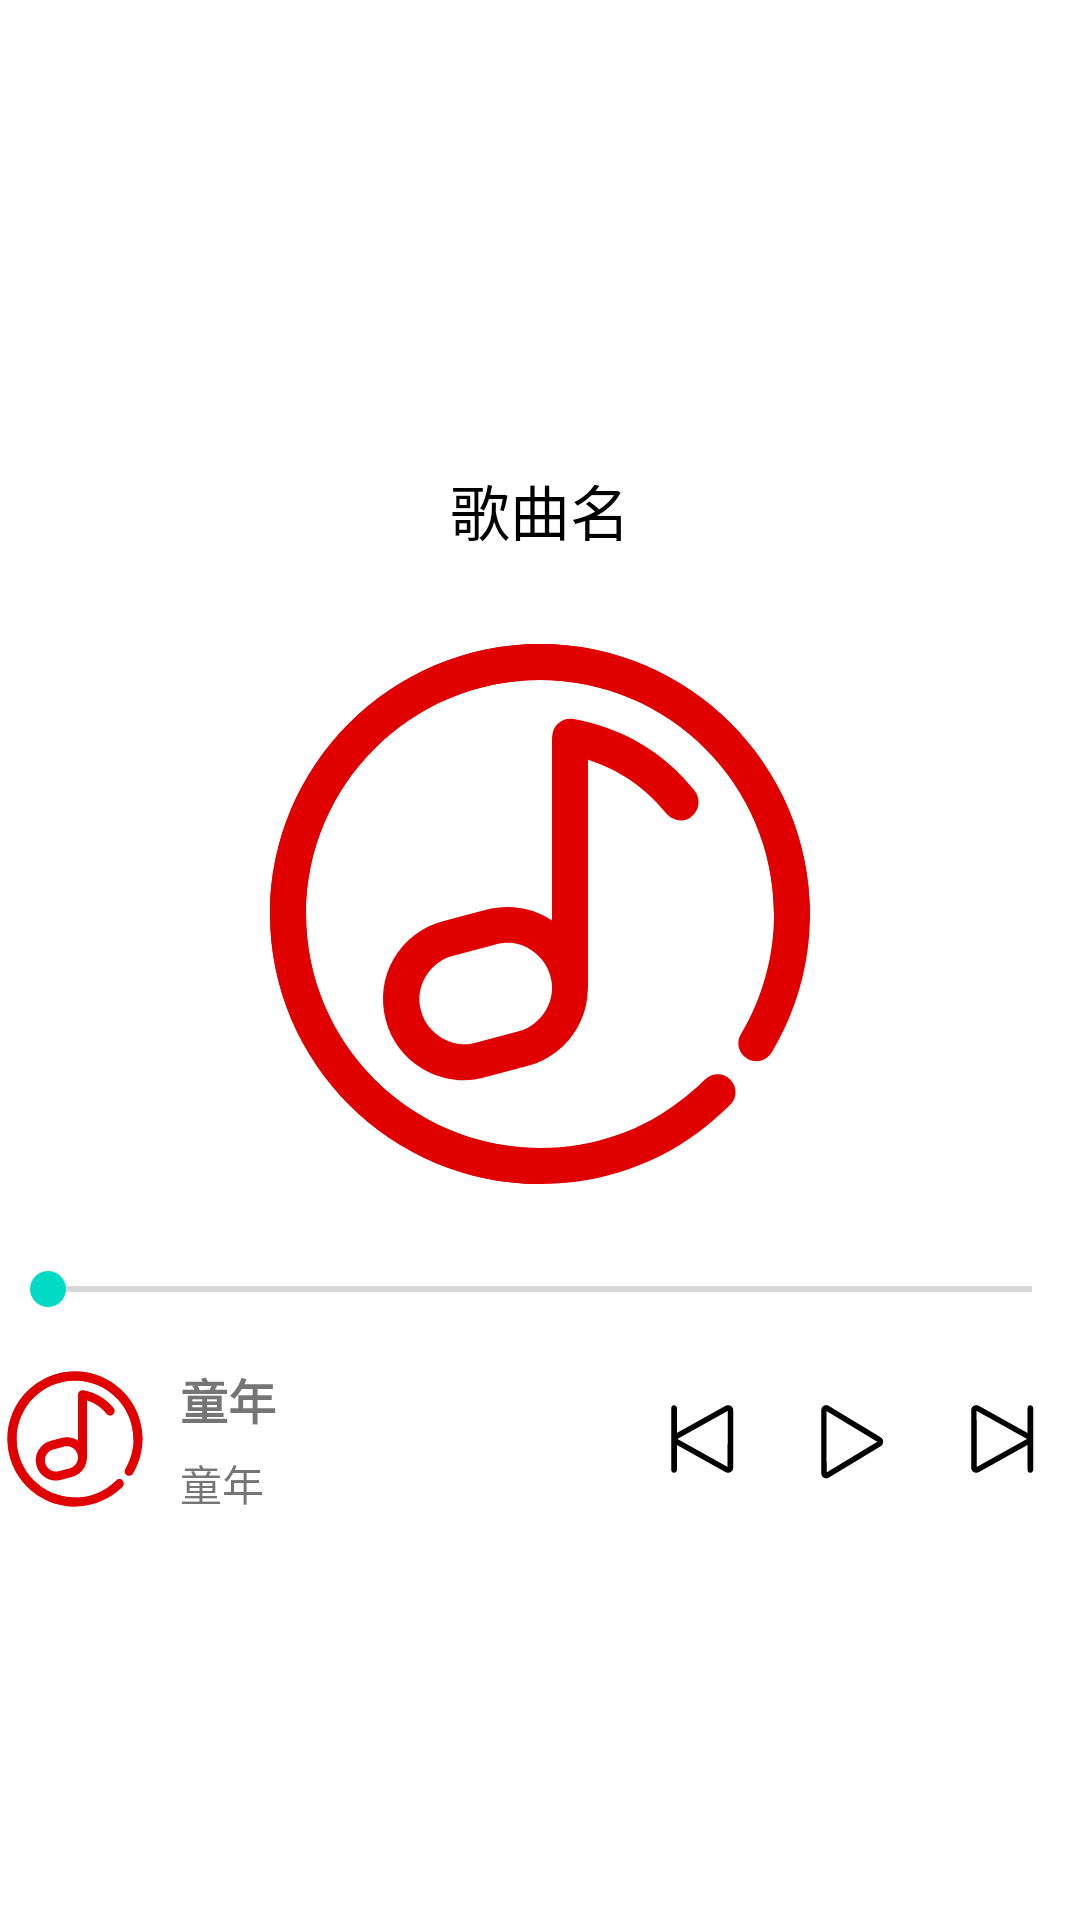

Where icons sit on this 1080×1920 app screen, as bbox=[x1, y1, x2, y2]:
last: bbox=[671, 1405, 734, 1473]
next: bbox=[971, 1405, 1034, 1473]
